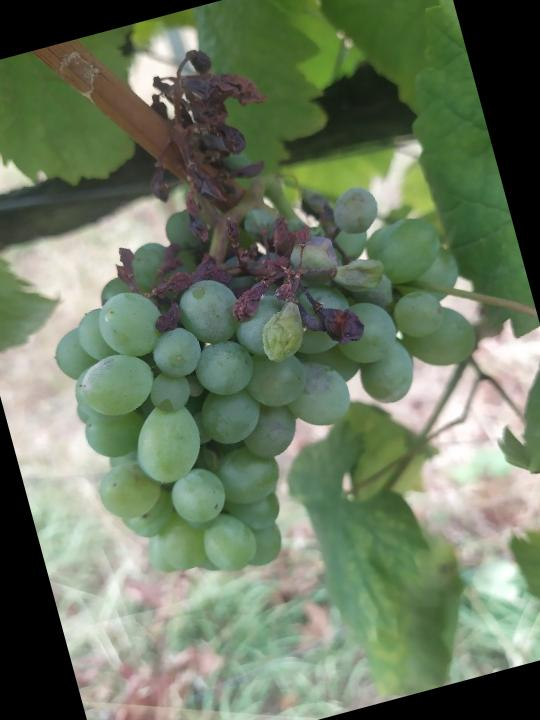grape: (0, 0, 522, 608)
